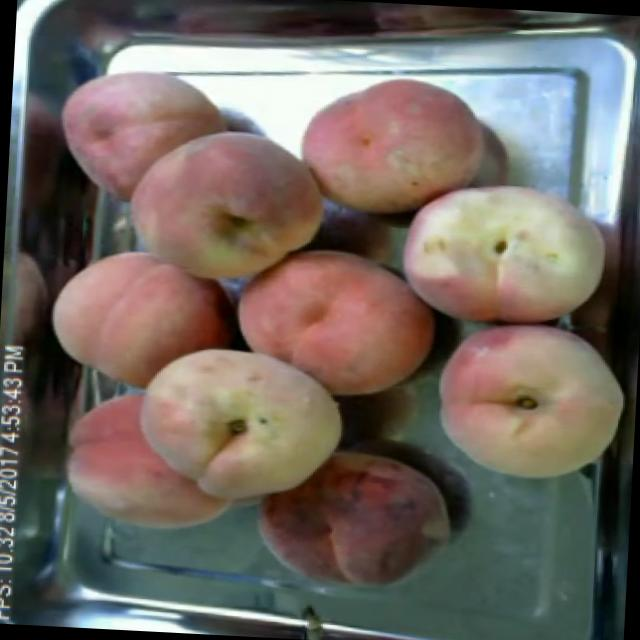Fruit: (110, 112, 340, 306), (123, 331, 354, 520), (220, 230, 452, 412), (418, 317, 636, 498), (384, 164, 618, 332), (244, 433, 466, 610), (284, 60, 502, 236), (38, 235, 238, 397), (45, 52, 242, 216)
